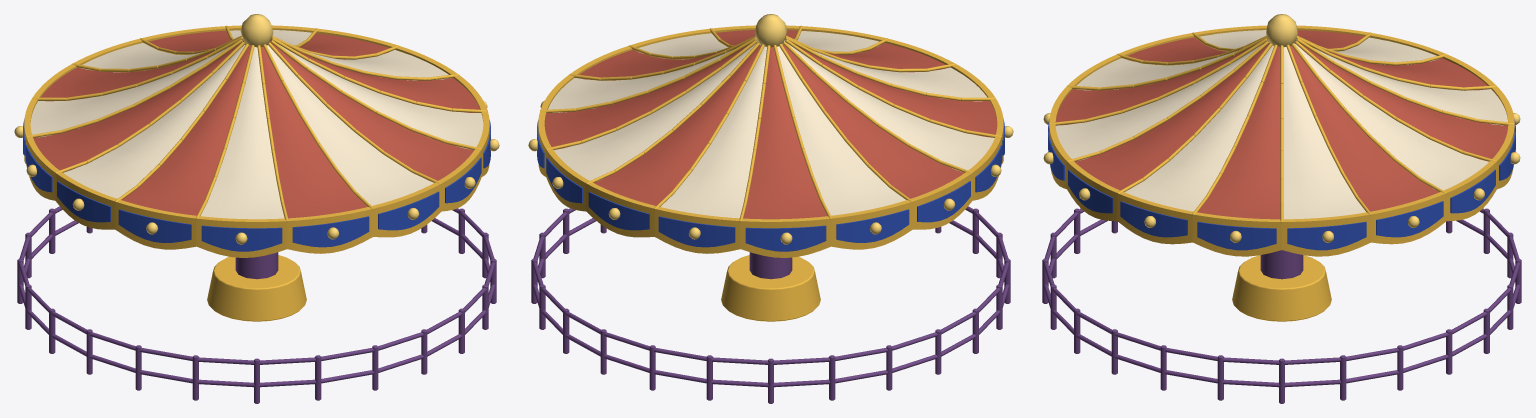
Rendered from carousel_roof.glb.
The picture shows the model from 3 angles, left to right: view 1: azimuth 30°, elevation 25°; view 2: azimuth 150°, elevation 25°; view 3: azimuth 270°, elevation 25°; orthographic projection.
Parts seen in each view (by area): view 1: carousel_roof; view 2: carousel_roof; view 3: carousel_roof.
Boxes of the visible parts, box(x1,y1,x2,y2) form: carousel_roof: box(14, 14, 499, 403); carousel_roof: box(528, 14, 1013, 403); carousel_roof: box(1042, 14, 1521, 403).
Size of the model in its own units: 8.97 by 5.95 by 8.97.
